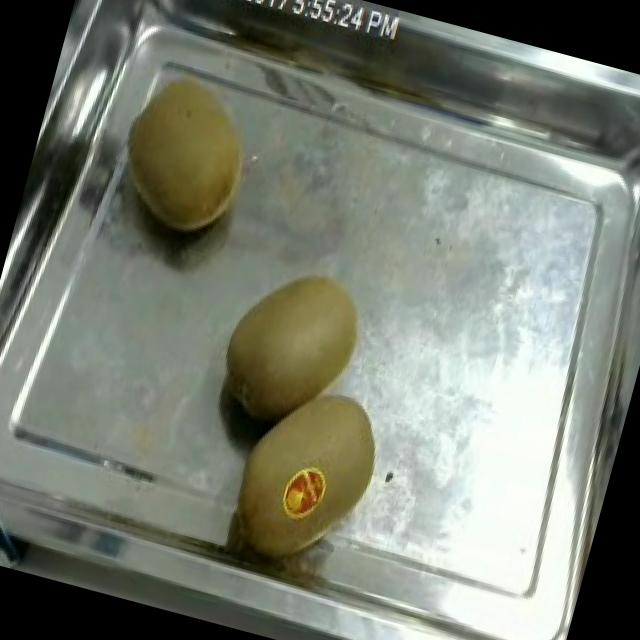Fruit: (218, 366, 406, 592), (202, 246, 384, 451), (95, 54, 276, 260)
